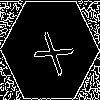X: (25, 25, 75, 77)
